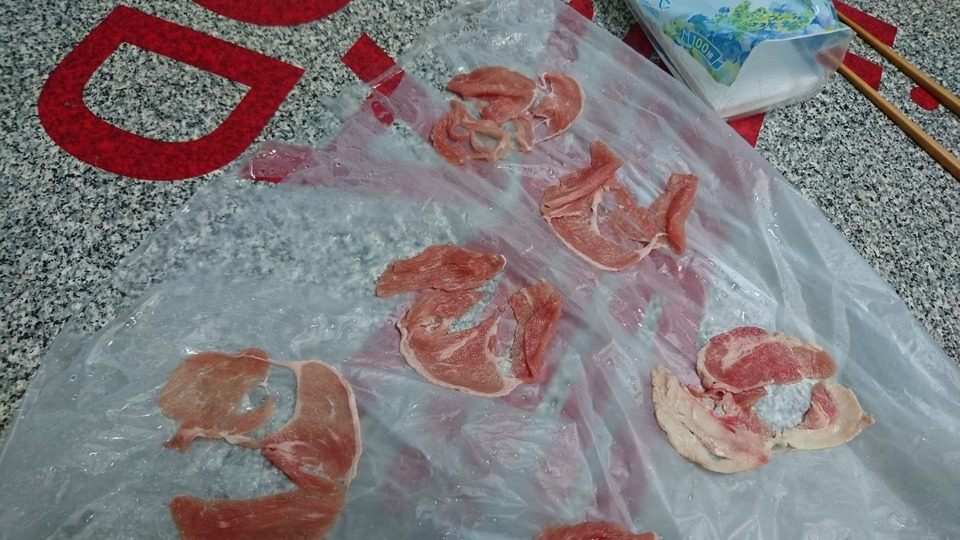restructured meat: (150, 344, 374, 540), (649, 322, 869, 477), (371, 238, 591, 393), (541, 129, 700, 269), (427, 56, 589, 165)
